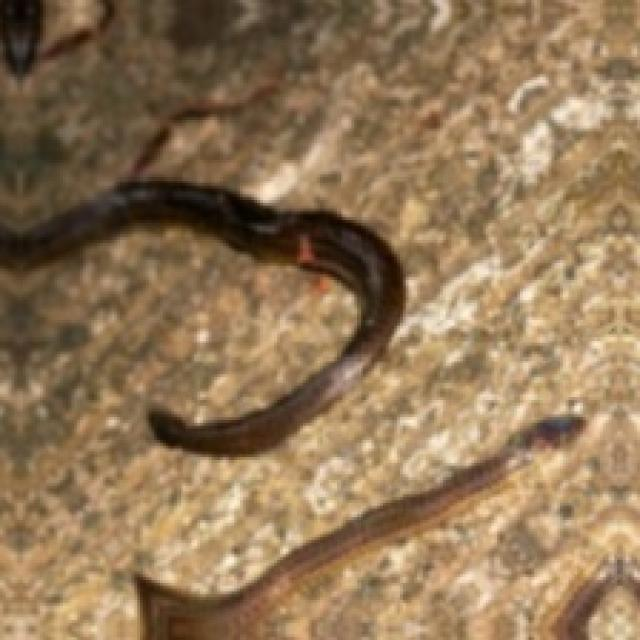gervais worm snake: (0, 180, 403, 454), (134, 414, 583, 637)
